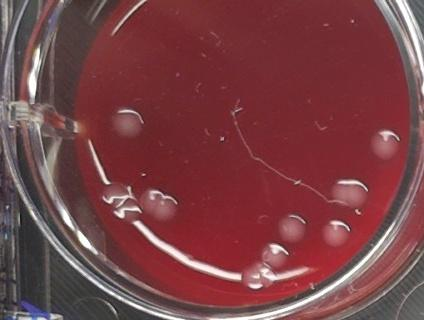pddamselae: (99, 180, 140, 228), (104, 104, 149, 147), (327, 172, 371, 213), (140, 186, 180, 223), (367, 124, 404, 161), (238, 258, 277, 293), (317, 216, 354, 250), (274, 212, 309, 246), (259, 239, 292, 268)
